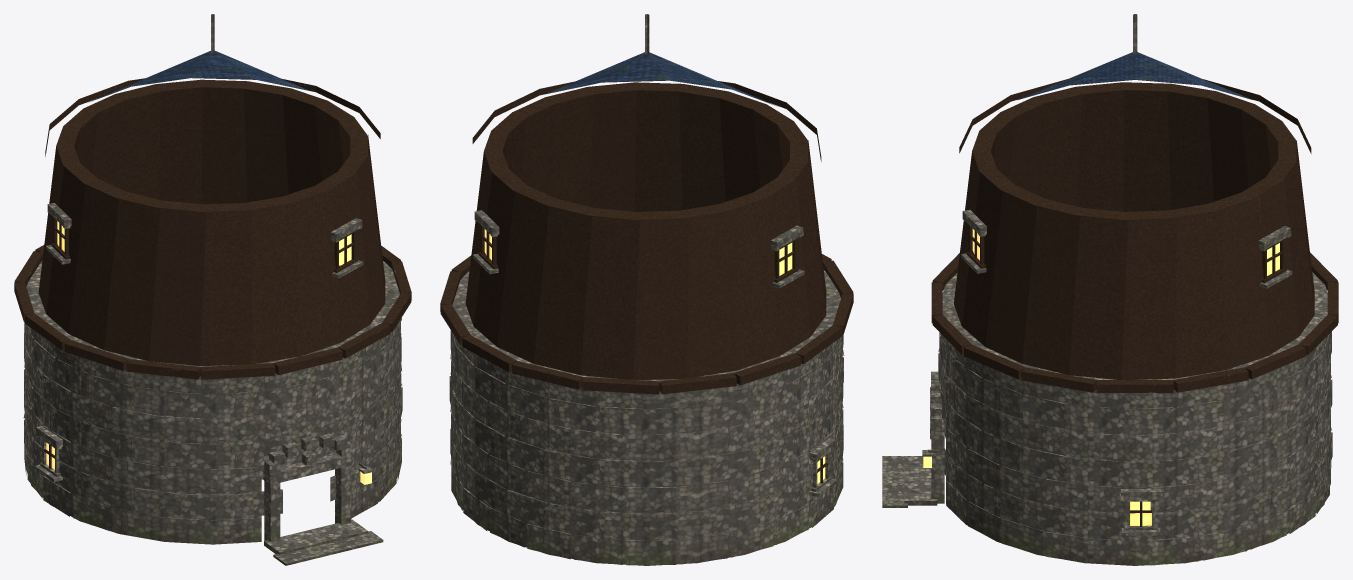
The model's file is bld_windmill_card.glb.
The picture shows the model from 3 angles, left to right: view 1: azimuth 30°, elevation 25°; view 2: azimuth 150°, elevation 25°; view 3: azimuth 270°, elevation 25°; orthographic projection. The views are drawn at different scales.
Visible parts, largest first — view 1: windmill_card; view 2: windmill_card; view 3: windmill_card.
Boxes of the visible parts, x1,y1,x2,y2 form: windmill_card: (14, 14, 411, 565); windmill_card: (440, 14, 853, 565); windmill_card: (882, 14, 1338, 565).
Bounding box in the file's own units: 19.15 × 23.97 × 21.17.
Materials: 1 (1 with a texture image).
